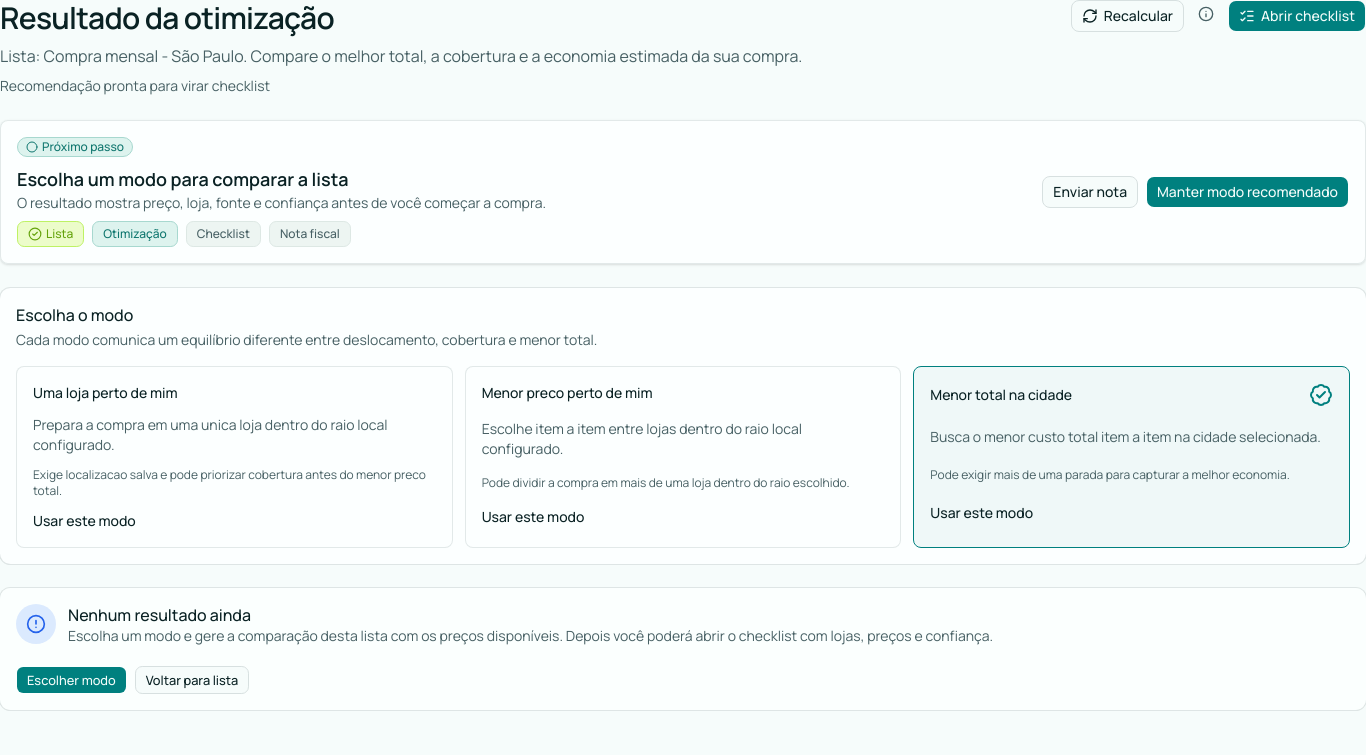
Test: OptimizationPage › shows actionable local coverage errors instead of raw API JSON
The width and height of the screenshot is (1366, 755).
Click the text "Uma loja perto de mim" at (105, 393), box [33, 383, 178, 403]
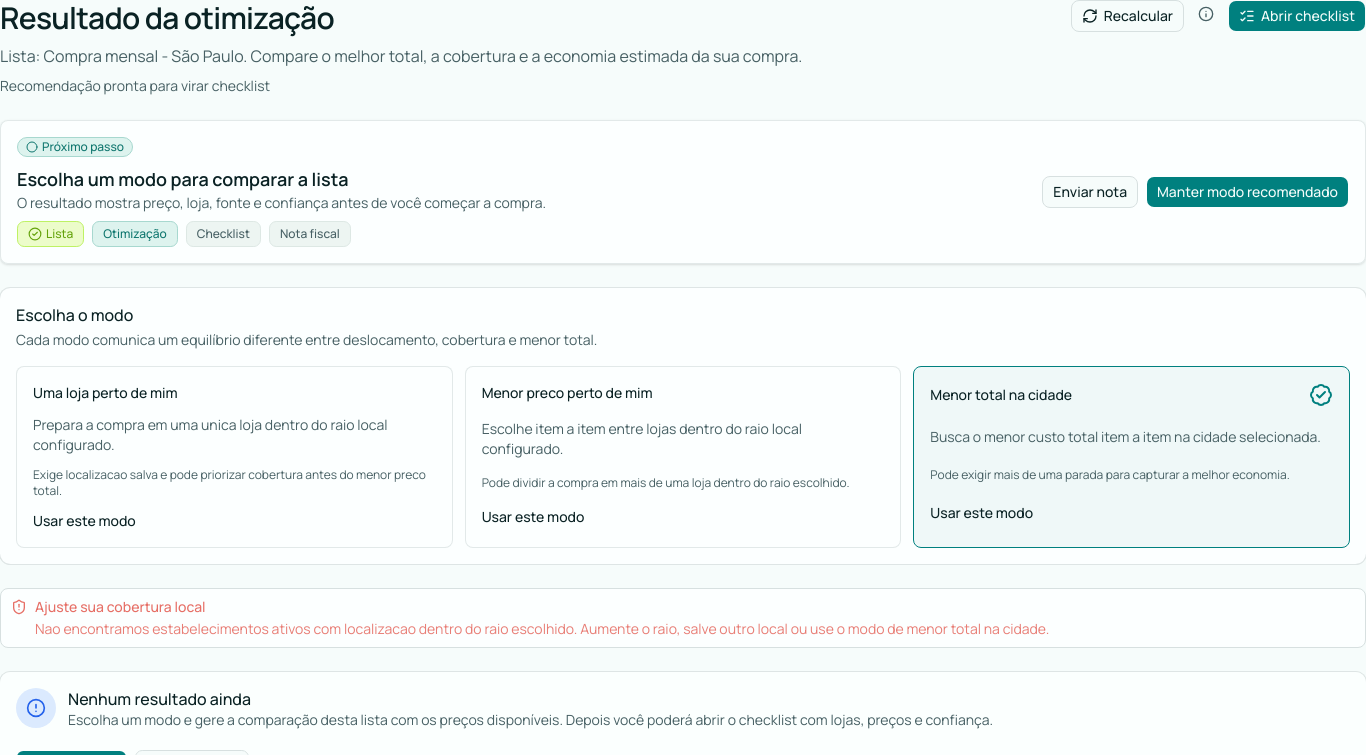
Expected: the text "Ajuste sua cobertura local" is shown, [35, 597, 206, 616]
Expected: the text "Nao encontramos estabelecimentos ativos com localizacao dentro do raio escolhido. Aumente o raio, salve outro local ou u" is shown, [35, 619, 1049, 638]
